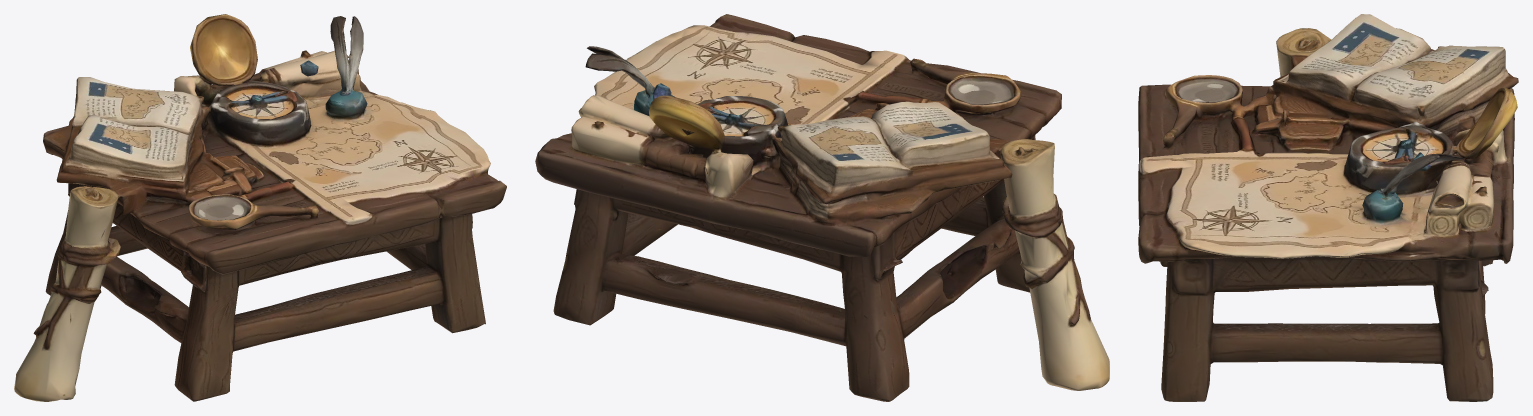
The model's file is adventure-table.glb.
The picture shows the model from 3 angles, left to right: view 1: azimuth 30°, elevation 25°; view 2: azimuth 150°, elevation 25°; view 3: azimuth 270°, elevation 25°; orthographic projection. The views are drawn at different scales.
Bounding box in the file's own units: 2 × 1.08 × 1.38.
1 material, 1 textured.
